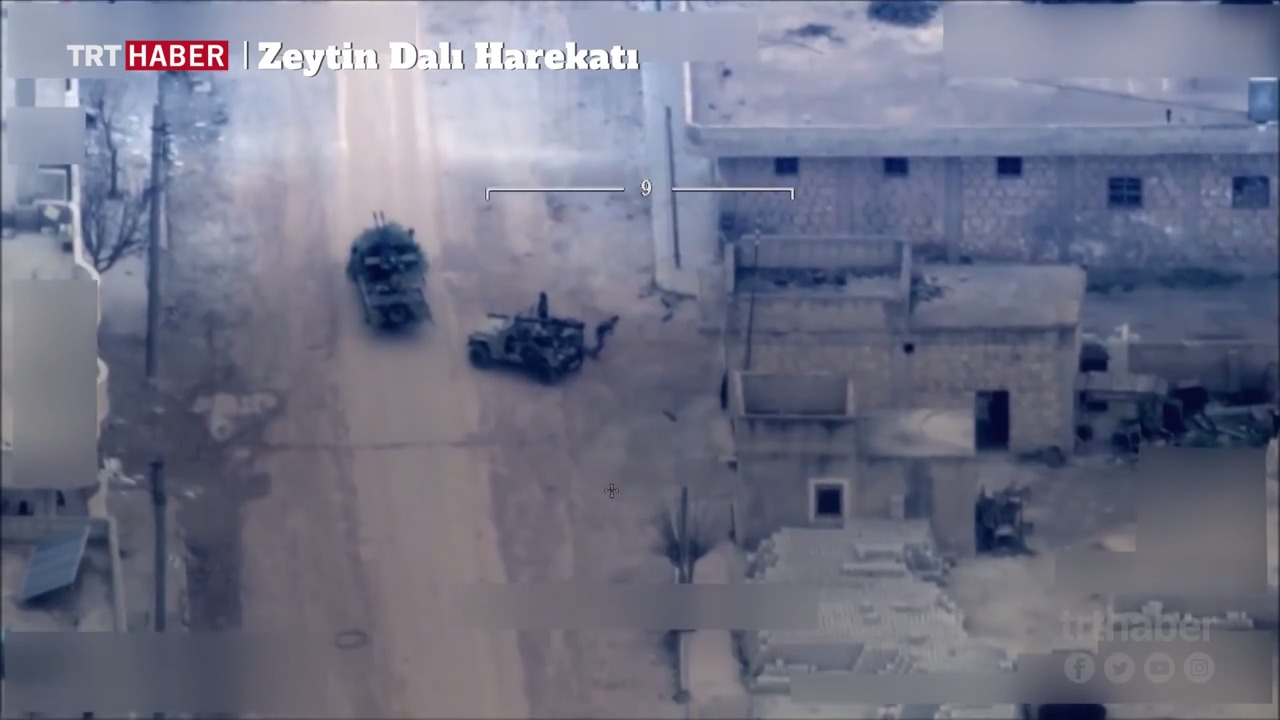arac: (338, 204, 437, 339), (460, 302, 589, 385)
insan: (590, 313, 620, 359), (526, 284, 555, 322)
